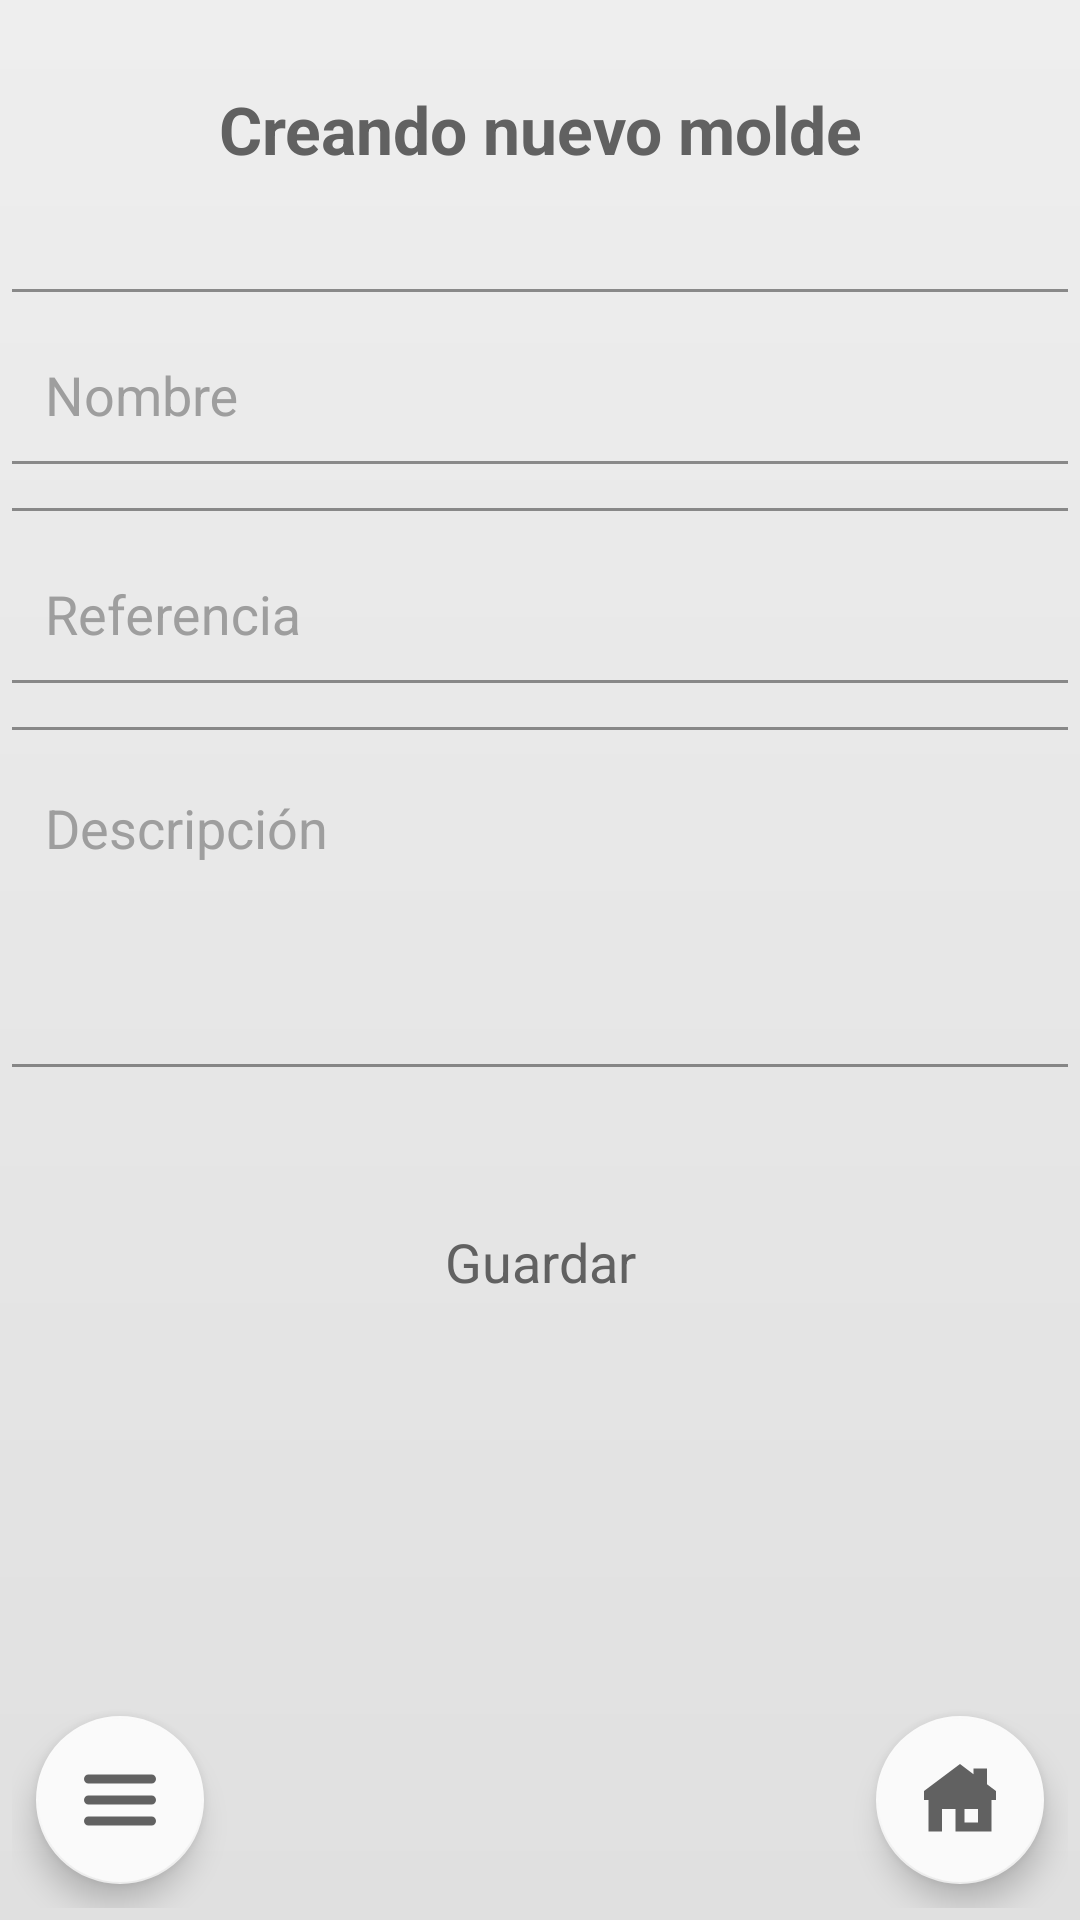

Locate icon controls on the screen. Image size 1080w x 1920h, boxes as (x1, y1, x2, y2).
Fab nav home: (876, 1716, 1043, 1882)
